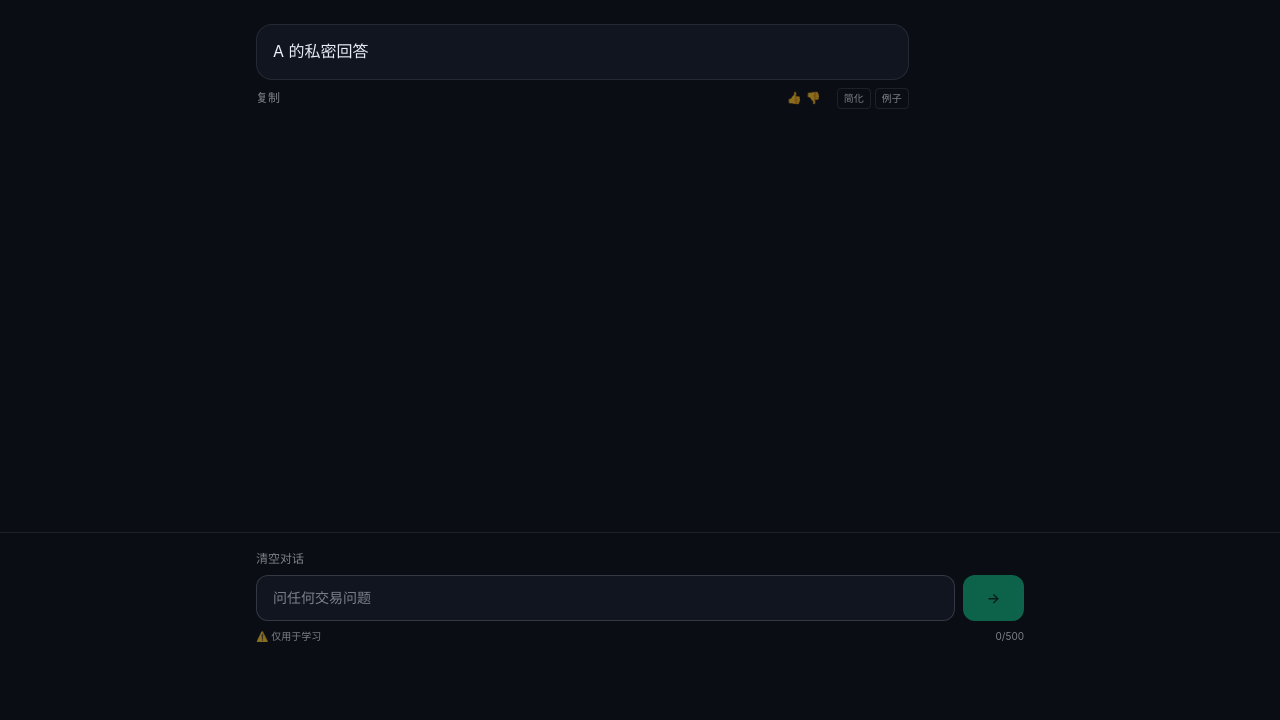
Test case: AiChat 清空对话 › 云端没删成时说「未能清空」，不假装已经清空
The width and height of the screenshot is (1280, 720).
Expected: the text "A 的私密回答" is shown, [273,41,368,61]
Click the button "清空对话". click: (280, 559)
box: [256,551,304,567]
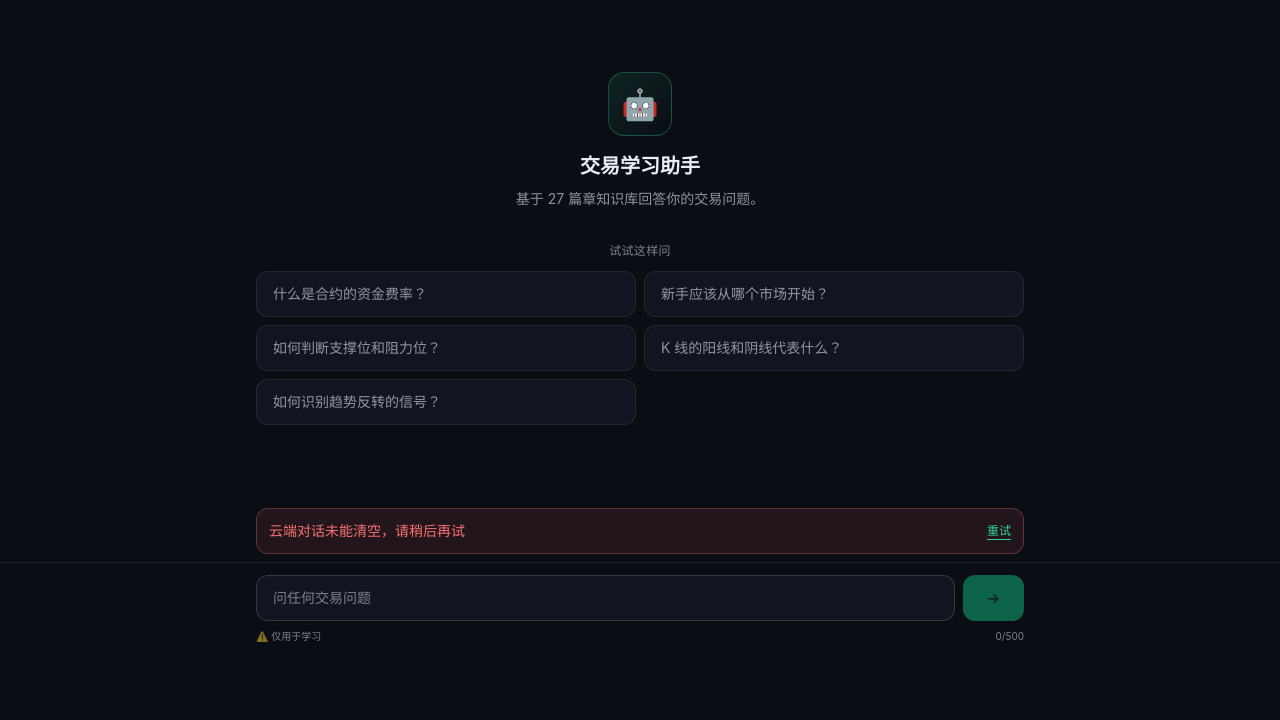
Expected: the text "云端对话未能清空，请稍后再试" is shown, [269,521,465,541]
